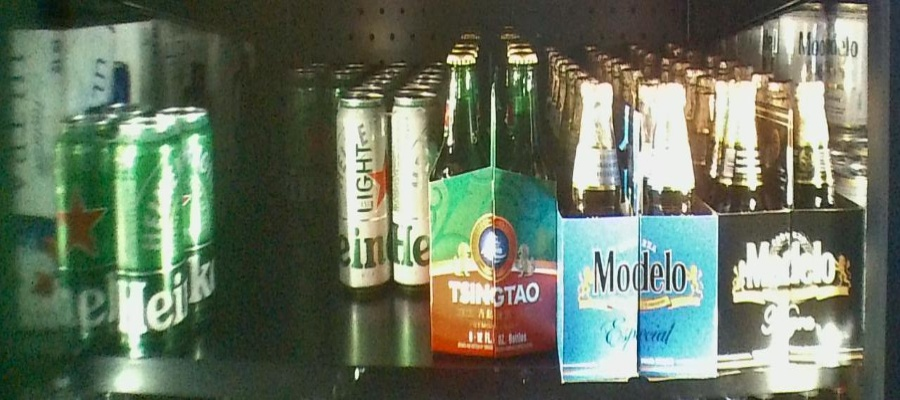bottle: (562, 79, 717, 389), (721, 79, 868, 362), (430, 45, 556, 362), (54, 118, 189, 352), (333, 94, 430, 294), (259, 68, 332, 226)
